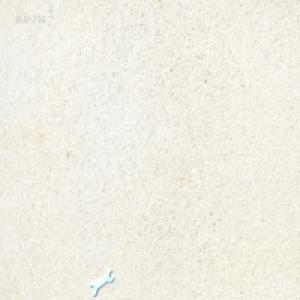Wrench: (92, 269, 116, 296)
